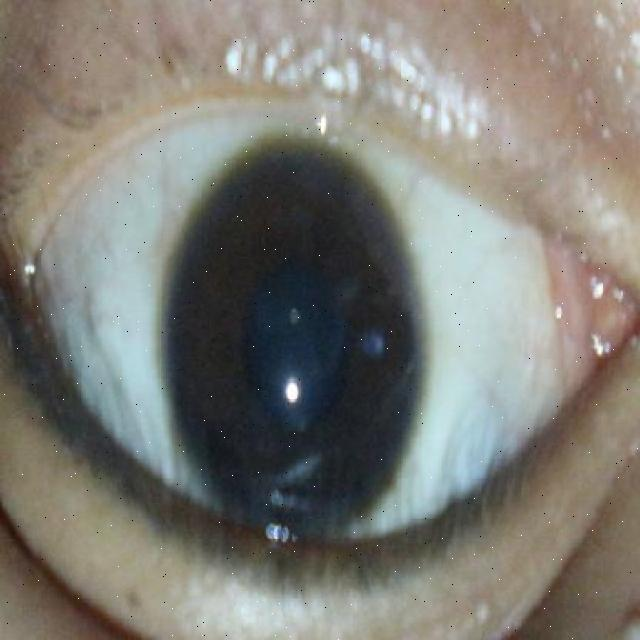Normal: (164, 143, 426, 536)
